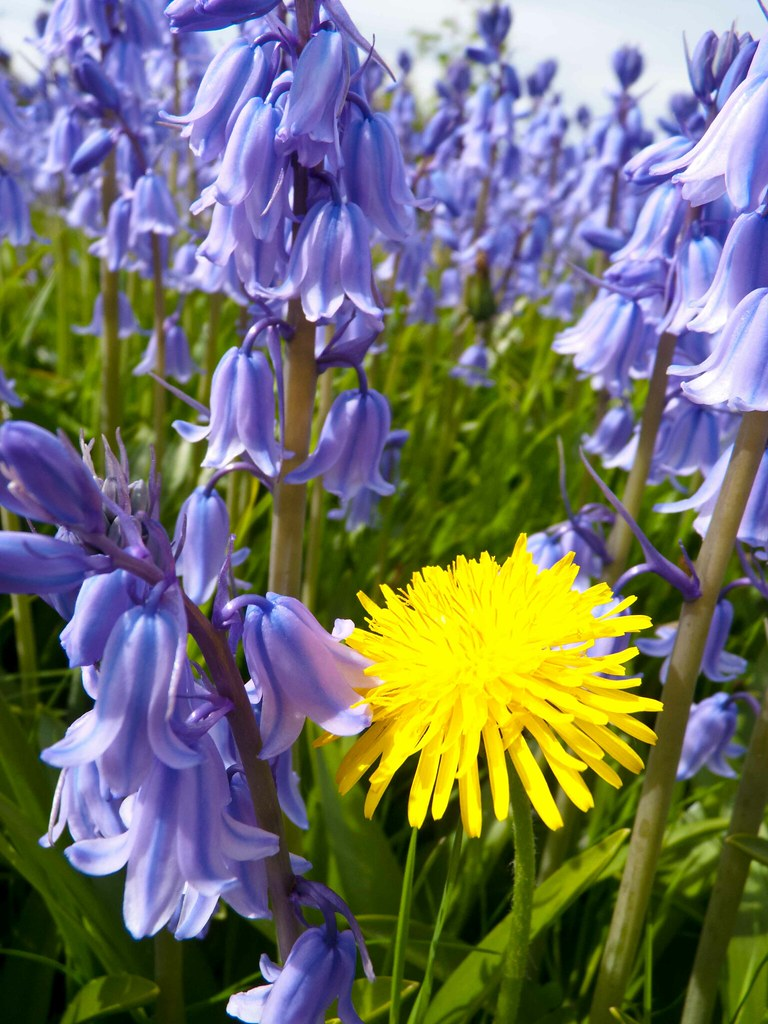dandelion: (359, 575, 643, 812)
